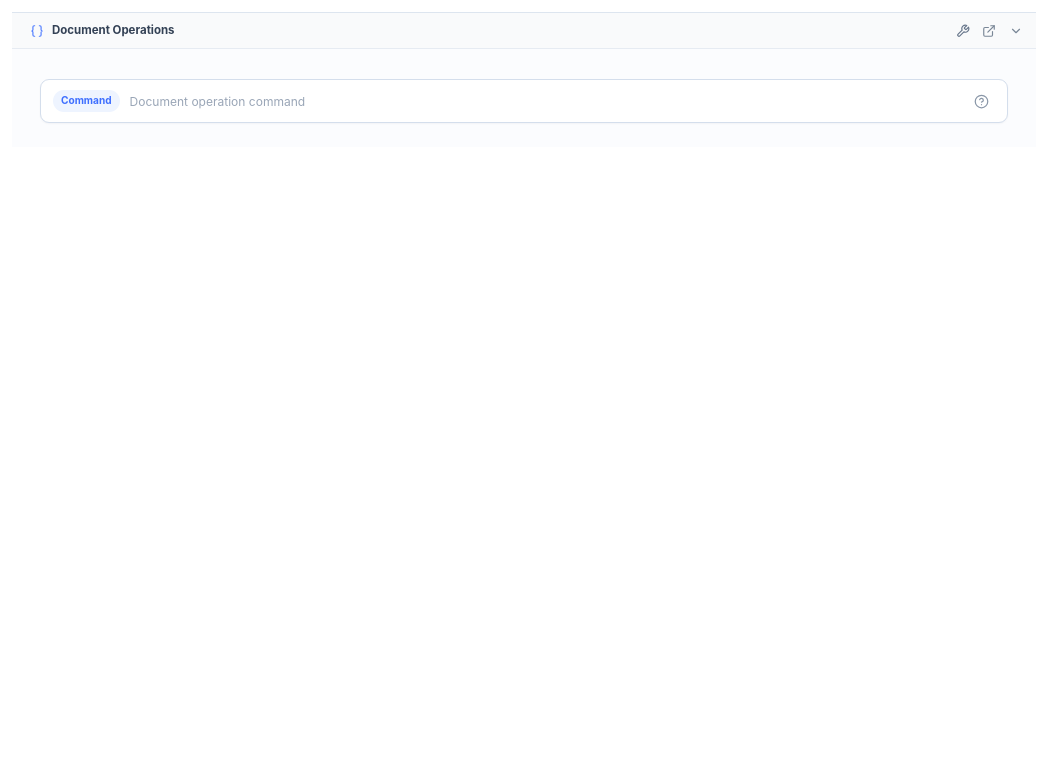
Test: WorkbenchToolPanels › floats and docks the panel while preserving command history
In the field named "Command input": [543, 101] box [120,80,967,122], type "searchText keyword"
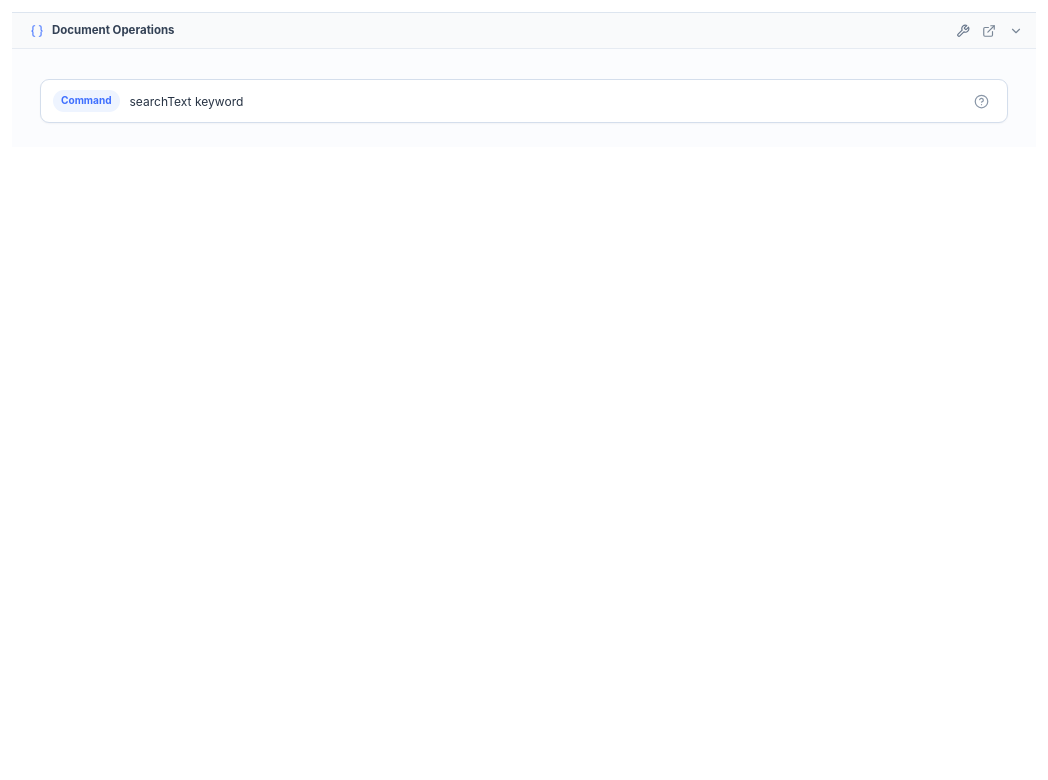
Submit the form named "Command input", box [40,79,1008,123]
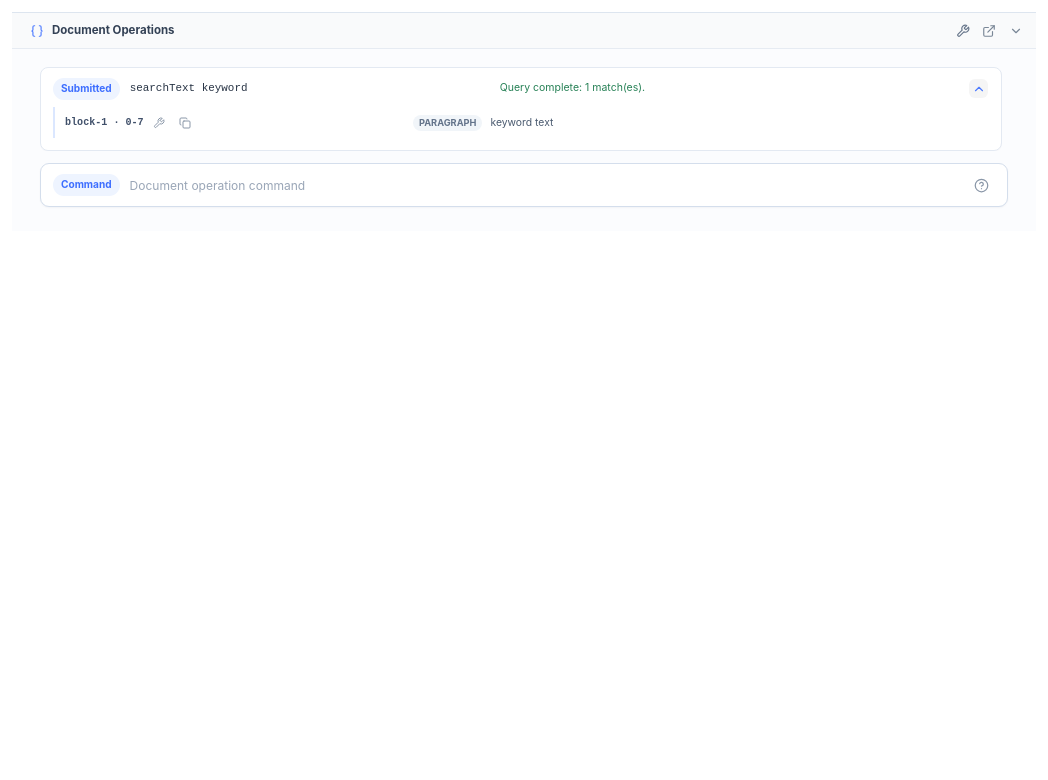
Expected: the text "Query complete: 1 match(es)." is shown, [500,81,645,94]
Click the button named "Open as floating window": [989, 31] box [977,18,1002,43]
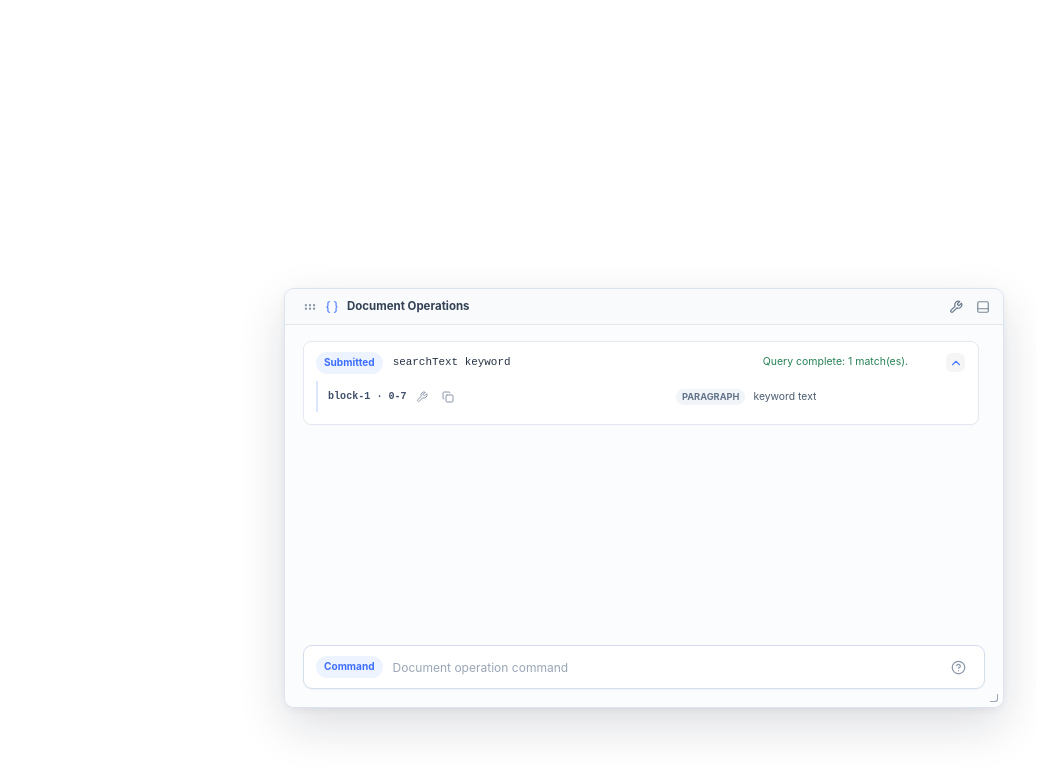
Expected: the text "searchText keyword" is shown, [393,356,510,368]
Expected: the text "keyword text" is shown, [754,390,816,402]
Expected: the button named "Dock to bottom" is shown
Click the button named "Dock to bottom": [983, 307] box [970,294,995,319]
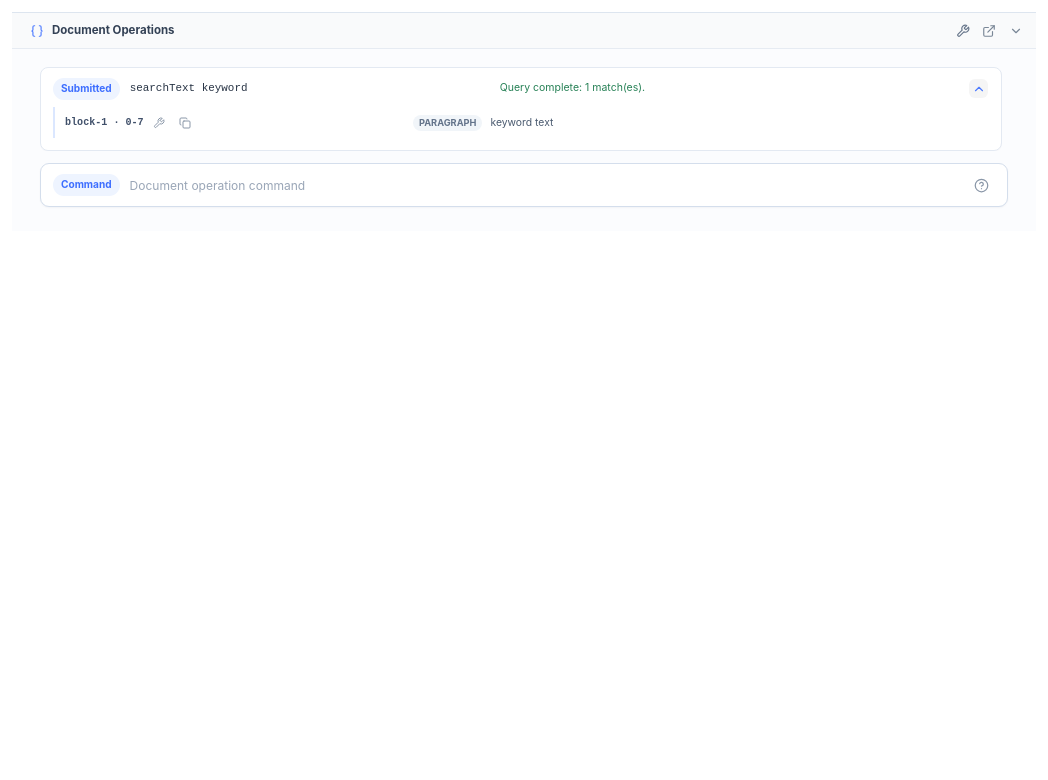
Expected: the text "searchText keyword" is shown, [130,82,248,94]
Expected: the button named "Open as floating window" is shown, [977,18,1002,43]
